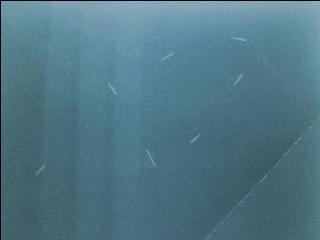crack: (203, 121, 320, 240)
scratch: (156, 47, 179, 65), (229, 31, 250, 47), (143, 148, 156, 167), (187, 130, 201, 143), (106, 81, 118, 95), (232, 72, 244, 86), (34, 164, 47, 176)
